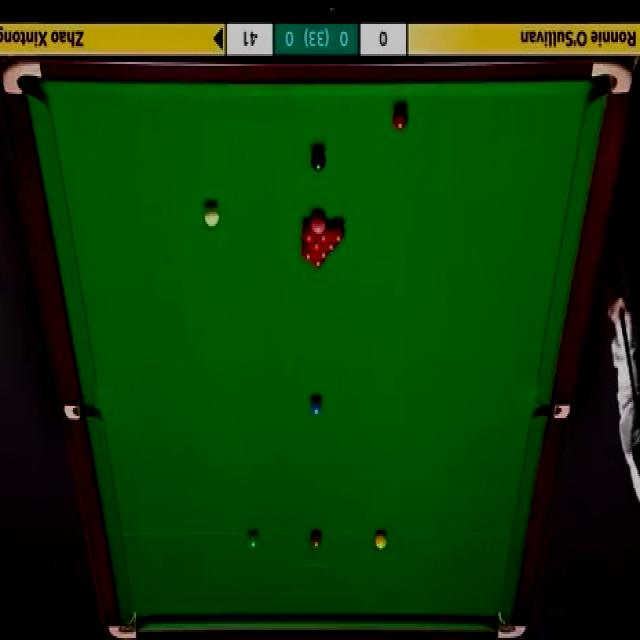black-ball: (311, 150, 325, 173)
blue-ball: (308, 394, 324, 417)
brown-ball: (309, 530, 322, 550)
green-ball: (245, 529, 259, 550)
pink-ball: (311, 213, 327, 235)
red-ball: (392, 105, 409, 132), (300, 218, 318, 242), (301, 240, 318, 261), (331, 222, 346, 242), (310, 254, 327, 270), (317, 224, 330, 242), (309, 239, 324, 253), (323, 239, 339, 252), (315, 248, 332, 260)
white-ball: (204, 205, 221, 230)
yellow-ball: (374, 530, 389, 551)
